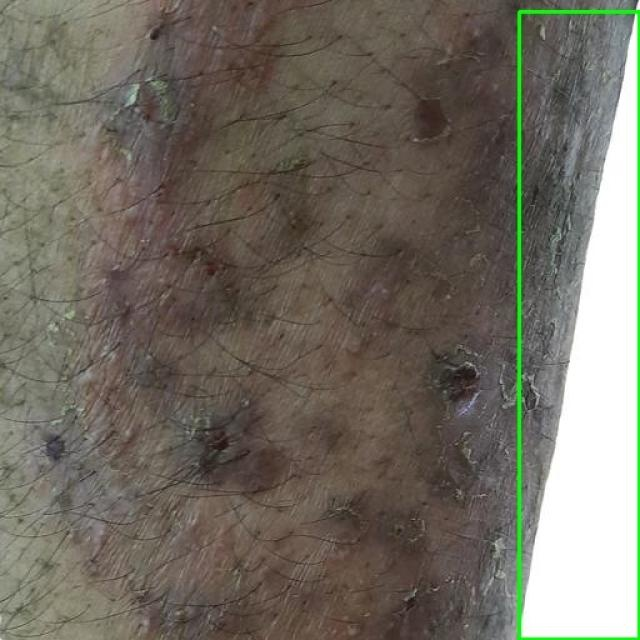Tinea Corporis: (519, 11, 639, 639)
